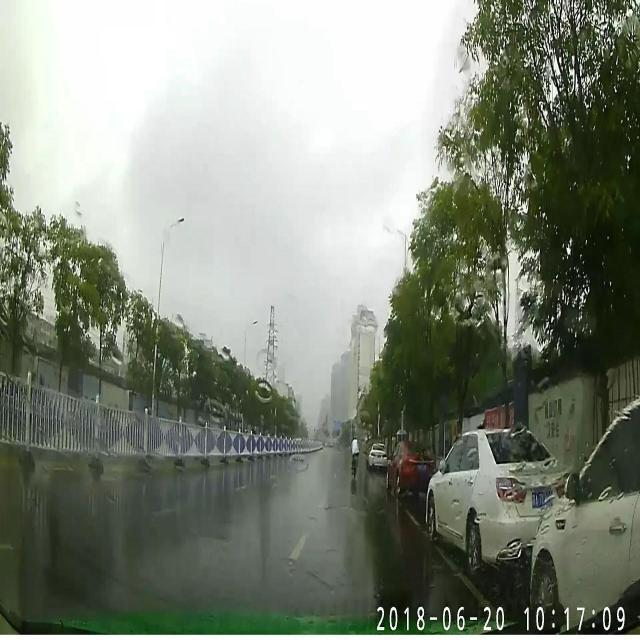car: (528, 398, 640, 636), (426, 424, 566, 572), (386, 442, 435, 495), (368, 442, 387, 470)
